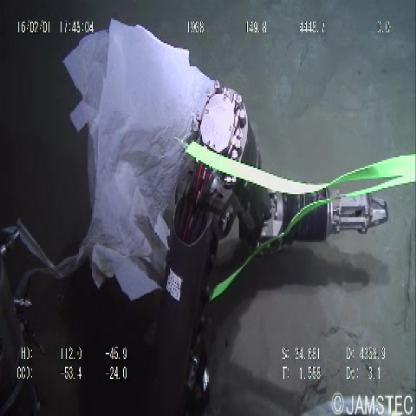Rov: (157, 72, 393, 368)
Rác: (67, 16, 222, 308)
